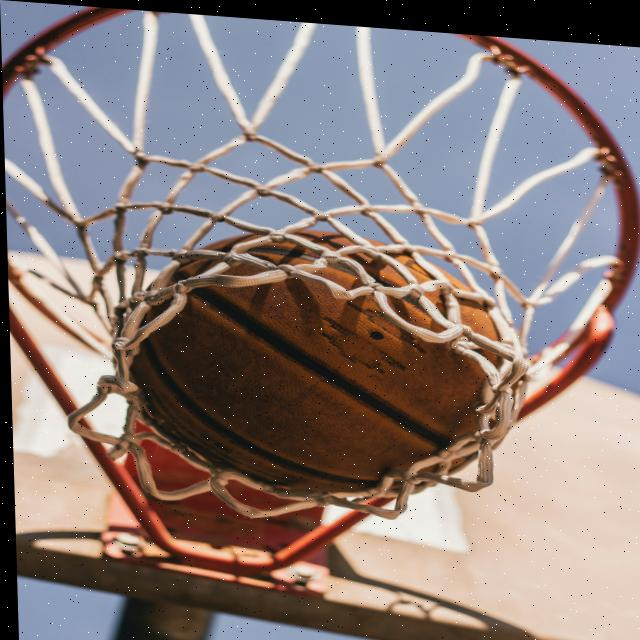Goal: (122, 215, 521, 508)
